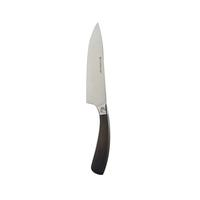knife: (76, 15, 116, 179)
